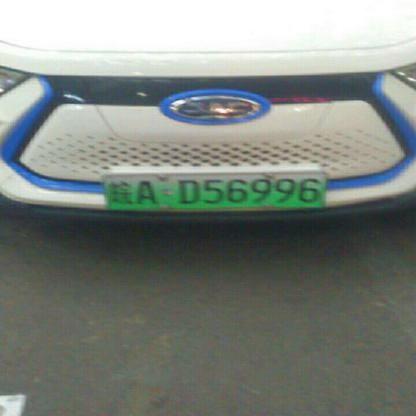lp: (104, 172, 324, 210)
